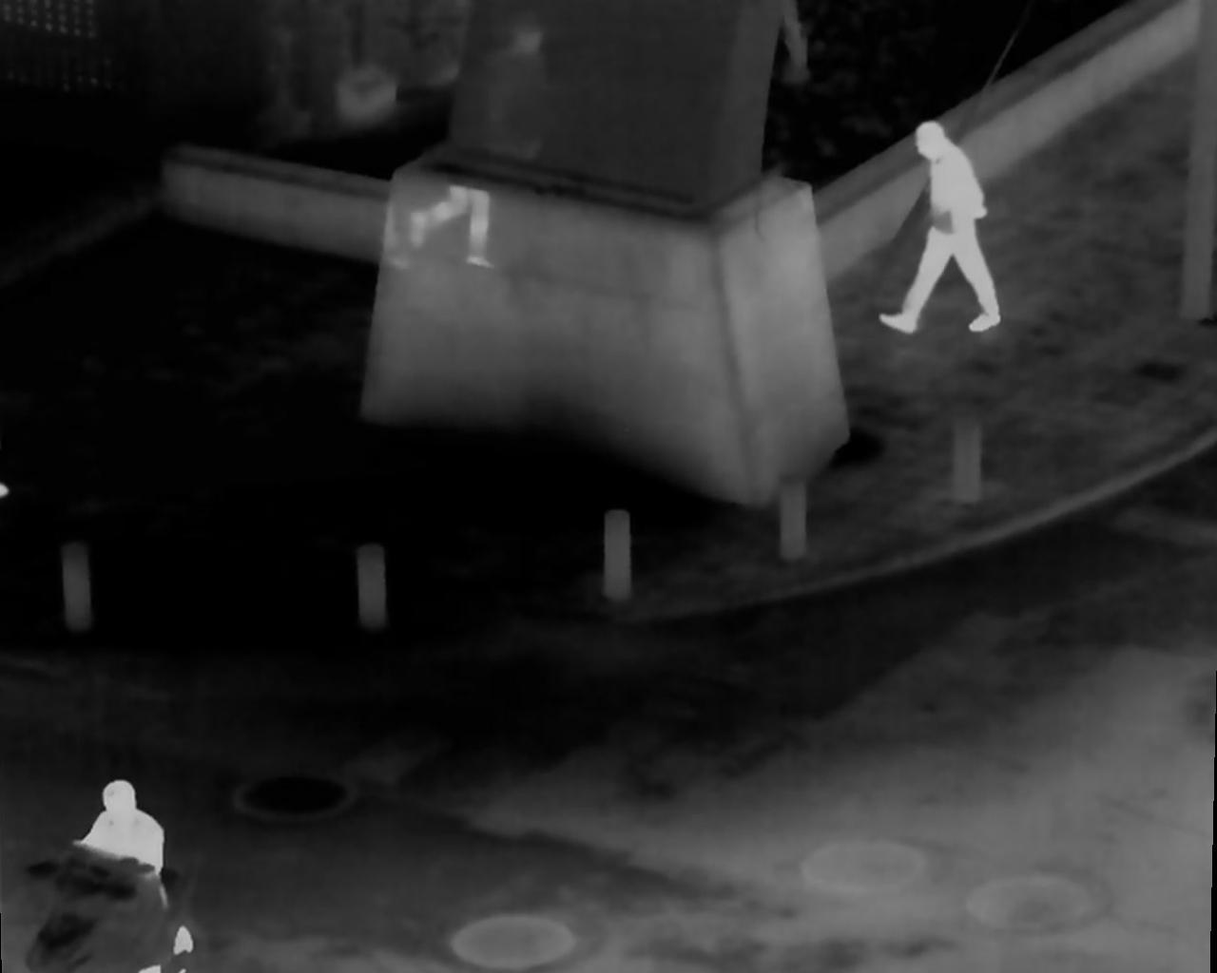person: (882, 123, 999, 332), (77, 778, 198, 953)
